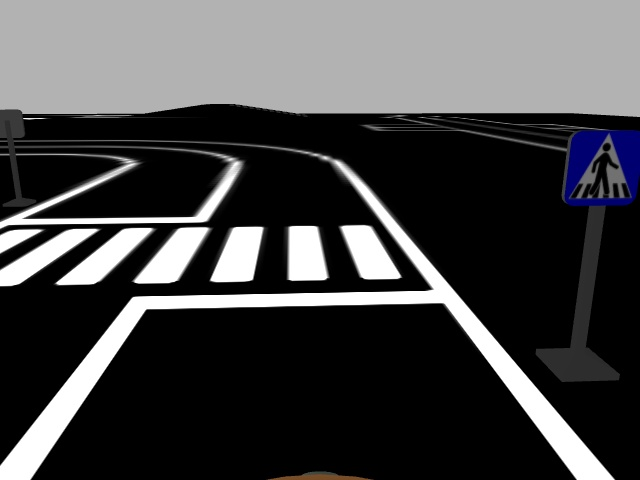crosswalk: (562, 127, 640, 205)
